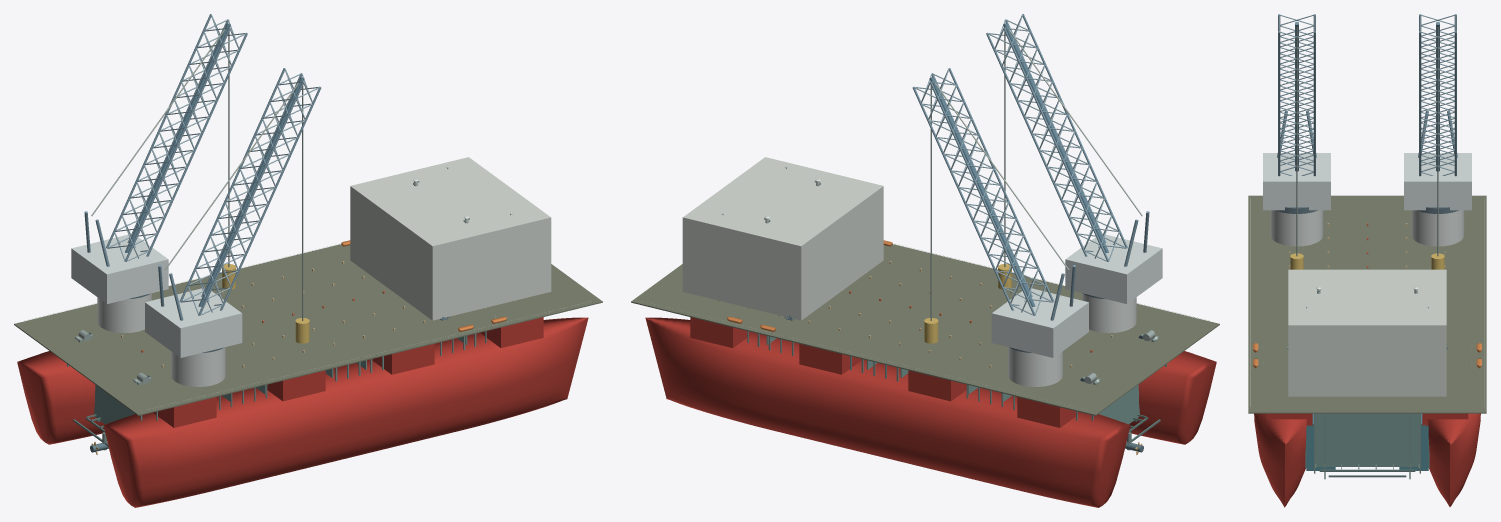
The model's file is sleipnir.lod1.glb.
3 renders of one model, left to right at view 1: azimuth 30°, elevation 25°; view 2: azimuth 150°, elevation 25°; view 3: azimuth 270°, elevation 25°, orthographic. The views are drawn at different scales.
Visible parts, largest first — view 1: sleipnir.structure.twin-hulls.starboard-pontoon.1, sleipnir.structure.decks.main-strength-deck.1, sleipnir.accommodation.superstructure.accommodation-block.1, sleipnir.cargo.starboard-heavy-crane.starboard-heavy-crane-m (×5), sleipnir.structure.twin-hulls.port-pontoon.1, sleipnir.cargo.port-heavy-crane.port-heavy-crane-machinery-h, sleipnir.cargo.port-heavy-crane.port-heavy-crane-main-lattic (×3), sleipnir.cargo.starboard-heavy-crane.starboard-heavy-crane-p, sleipnir.cargo.port-heavy-crane.port-heavy-crane-pedestal.1, sleipnir.structure.columns.support-column-1-4.2, sleipnir.structure.columns.support-column-1-1.2, sleipnir.structure.columns.support-column-1-2.2 (+3 smaller); view 2: sleipnir.structure.twin-hulls.port-pontoon.1, sleipnir.structure.decks.main-strength-deck.1, sleipnir.accommodation.superstructure.accommodation-block.1, sleipnir.cargo.starboard-heavy-crane.starboard-heavy-crane-m (×5), sleipnir.structure.twin-hulls.starboard-pontoon.1, sleipnir.cargo.port-heavy-crane.port-heavy-crane-machinery-h, sleipnir.cargo.port-heavy-crane.port-heavy-crane-main-lattic (×3), sleipnir.cargo.port-heavy-crane.port-heavy-crane-pedestal.1, sleipnir.cargo.starboard-heavy-crane.starboard-heavy-crane-p, sleipnir.structure.columns.support-column-1-4.1, sleipnir.structure.columns.support-column-1-1.1, sleipnir.structure.columns.support-column-1-2.1 (+3 smaller); view 3: sleipnir.structure.decks.main-strength-deck.1, sleipnir.accommodation.superstructure.accommodation-block.1, sleipnir.structure.subdivision.watertight-bulkhead-12.1, sleipnir.cargo.starboard-heavy-crane.starboard-heavy-crane-m (×4), sleipnir.cargo.port-heavy-crane.port-heavy-crane-machinery-h, sleipnir.structure.twin-hulls.starboard-pontoon.1, sleipnir.structure.twin-hulls.port-pontoon.1, sleipnir.cargo.port-heavy-crane.port-heavy-crane-pedestal.1, sleipnir.cargo.starboard-heavy-crane.starboard-heavy-crane-p, sleipnir.cargo.port-heavy-crane.port-heavy-crane-main-lattic (×2), sleipnir.cargo.port-heavy-crane.port-heavy-crane-main-boom.1, sleipnir.cargo.port-heavy-crane.port-heavy-crane-hoist-wire. (+6 smaller).
Part boxes in pixels (x1,y1,x2,y2): sleipnir.structure.twin-hulls.starboard-pontoon.1: (103, 317, 588, 507); sleipnir.structure.decks.main-strength-deck.1: (14, 244, 602, 415); sleipnir.accommodation.superstructure.accommodation-block.1: (350, 157, 551, 320); sleipnir.cargo.starboard-heavy-crane.starboard-heavy-crane-m (×5): (145, 68, 321, 357); sleipnir.structure.twin-hulls.port-pontoon.1: (17, 351, 104, 444); sleipnir.cargo.port-heavy-crane.port-heavy-crane-machinery-h: (71, 233, 168, 303); sleipnir.cargo.port-heavy-crane.port-heavy-crane-main-lattic (×3): (106, 14, 247, 261); sleipnir.cargo.starboard-heavy-crane.starboard-heavy-crane-p: (171, 347, 225, 386); sleipnir.cargo.port-heavy-crane.port-heavy-crane-pedestal.1: (97, 293, 151, 333); sleipnir.structure.columns.support-column-1-4.2: (480, 317, 543, 347); sleipnir.structure.columns.support-column-1-1.2: (153, 397, 216, 427); sleipnir.structure.columns.support-column-1-2.2: (267, 370, 325, 401); sleipnir.structure.twin-hulls.port-pontoon.1: (645, 317, 1130, 507); sleipnir.structure.decks.main-strength-deck.1: (631, 244, 1219, 415); sleipnir.accommodation.superstructure.accommodation-block.1: (682, 157, 883, 320); sleipnir.cargo.starboard-heavy-crane.starboard-heavy-crane-m (×5): (986, 14, 1162, 303); sleipnir.structure.twin-hulls.starboard-pontoon.1: (1129, 351, 1216, 444); sleipnir.cargo.port-heavy-crane.port-heavy-crane-machinery-h: (991, 287, 1088, 357); sleipnir.cargo.port-heavy-crane.port-heavy-crane-main-lattic (×3): (912, 68, 1054, 315); sleipnir.cargo.port-heavy-crane.port-heavy-crane-pedestal.1: (1008, 347, 1062, 386); sleipnir.cargo.starboard-heavy-crane.starboard-heavy-crane-p: (1082, 293, 1136, 333); sleipnir.structure.columns.support-column-1-4.1: (690, 317, 753, 347); sleipnir.structure.columns.support-column-1-1.1: (1017, 397, 1080, 427); sleipnir.structure.columns.support-column-1-2.1: (908, 370, 966, 401); sleipnir.structure.decks.main-strength-deck.1: (1248, 195, 1486, 413); sleipnir.accommodation.superstructure.accommodation-block.1: (1288, 269, 1446, 396); sleipnir.structure.subdivision.watertight-bulkhead-12.1: (1315, 413, 1419, 466); sleipnir.cargo.starboard-heavy-crane.starboard-heavy-crane-m (×4): (1263, 21, 1330, 210); sleipnir.cargo.port-heavy-crane.port-heavy-crane-machinery-h: (1404, 153, 1471, 210); sleipnir.structure.twin-hulls.starboard-pontoon.1: (1254, 413, 1306, 507); sleipnir.structure.twin-hulls.port-pontoon.1: (1428, 413, 1480, 506); sleipnir.cargo.port-heavy-crane.port-heavy-crane-pedestal.1: (1411, 210, 1464, 246); sleipnir.cargo.starboard-heavy-crane.starboard-heavy-crane-p: (1270, 210, 1323, 246); sleipnir.cargo.port-heavy-crane.port-heavy-crane-main-lattic (×2): (1419, 31, 1456, 176); sleipnir.cargo.port-heavy-crane.port-heavy-crane-main-boom.1: (1436, 21, 1439, 171); sleipnir.cargo.port-heavy-crane.port-heavy-crane-hoist-wire.: (1437, 23, 1438, 256).
Size of the model in its own units: 220 by 171 by 99.96.
